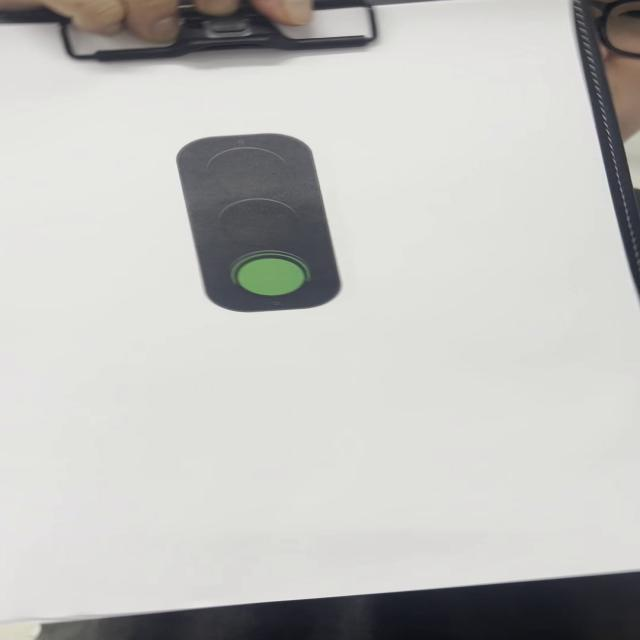green: (173, 130, 343, 314)
